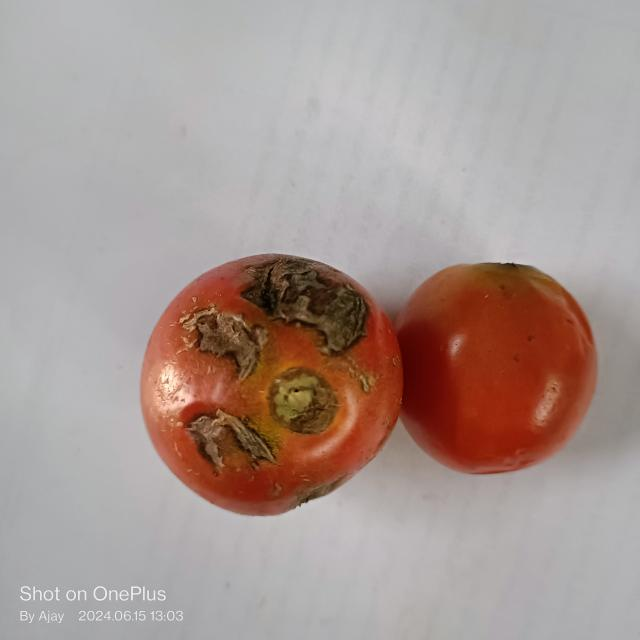Bacterial_Spot: (265, 263, 364, 342), (267, 368, 339, 432), (186, 307, 256, 367), (186, 413, 258, 462)
